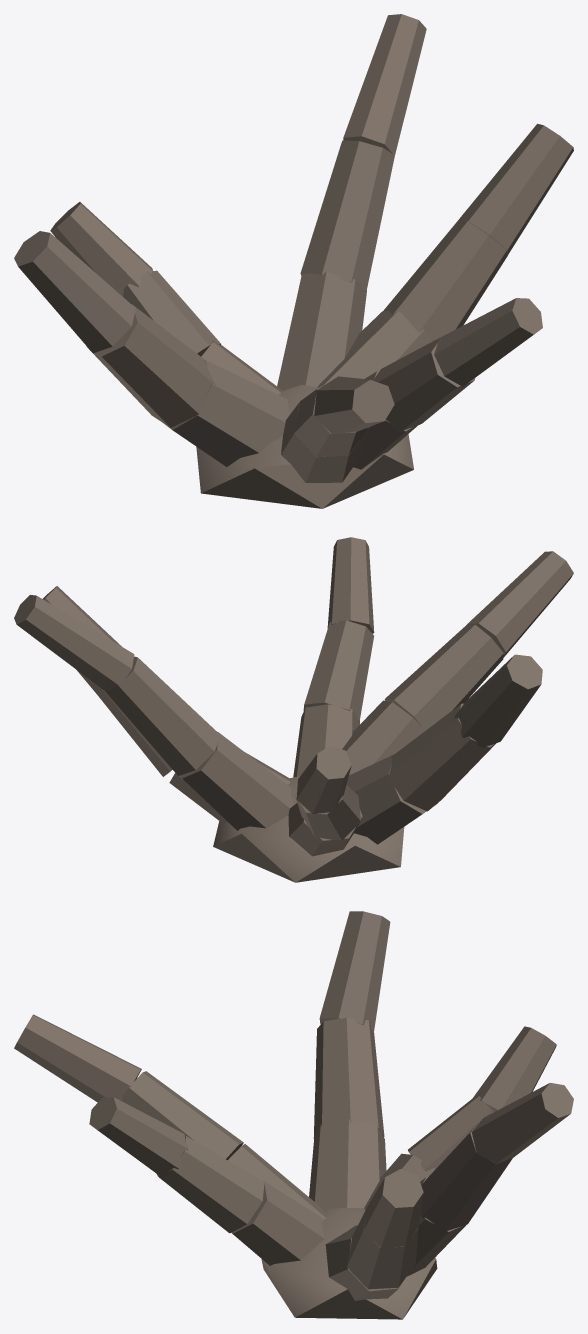
Rendered from root_mass_a.glb.
3 views of the same model, one above another, from view 1: azimuth 30°, elevation 25°; view 2: azimuth 150°, elevation 25°; view 3: azimuth 270°, elevation 25° (orthographic). The views are drawn at different scales.
Parts seen in each view (by area): view 1: bark; view 2: bark; view 3: bark.
Part boxes in pixels (box(x1,y1,x2,y2)): bark: box(14, 14, 573, 508); bark: box(14, 537, 573, 882); bark: box(14, 911, 573, 1319).
Size of the model in its own units: 4.04 by 2.17 by 3.77.
